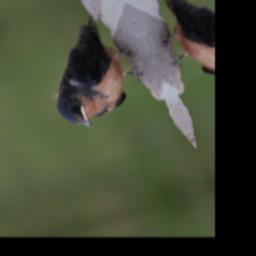Swallow: (21, 8, 162, 136)
